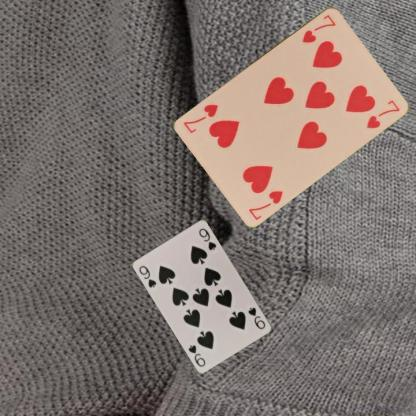7h: (246, 187, 285, 221), (299, 11, 337, 44)
9s: (245, 304, 267, 330), (136, 263, 158, 289)
